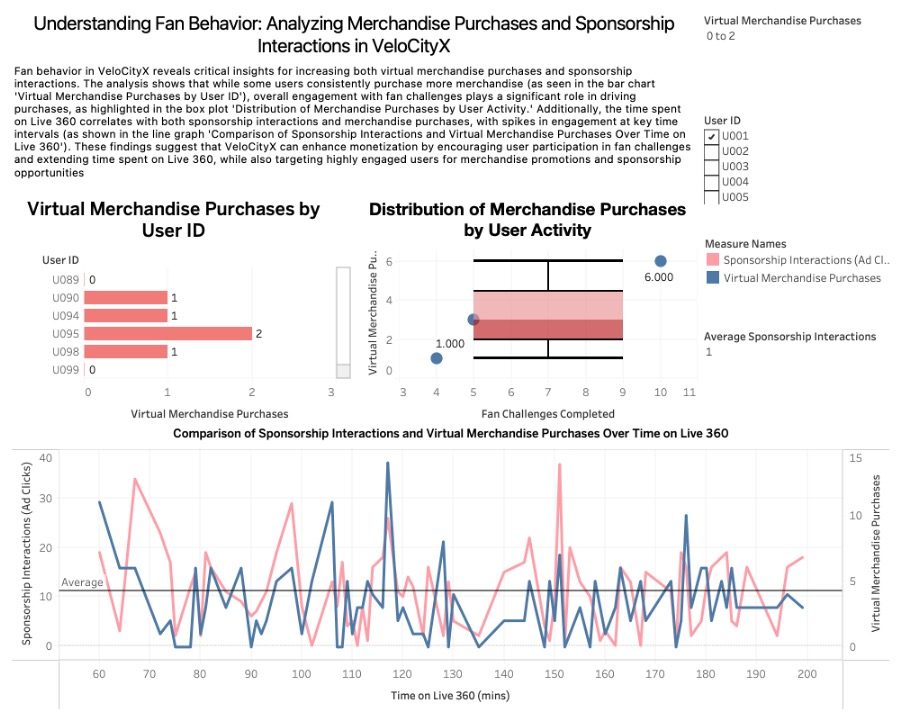

What the dashboard file says about the page in this screenshot:
{"tool":"tableau","page":{"name":"Dashboard 1","canvas":[1000,800],"ordinal":0},"visuals":[{"type":"title","box":[8,8,769,58]},{"type":"filter","title":"EDA1","param":"[federated.1t0z5pm10wgz3h17s3ghv1tn4f4g].[sum:Virtual Merchandise Purchases:qk]","box":[777,8,215,111]},{"type":"text","box":[8,66,769,143]},{"type":"filter","title":"EDA2","param":"[federated.1t0z5pm10wgz3h17s3ghv1tn4f4g].[none:User ID:nk]","box":[777,119,215,111]},{"type":"worksheet","title":"EDA1","mark":"Automatic","rows":["User ID"],"cols":["Virtual Merchandise Purchases"],"box":[8,209,384.5,254]},{"type":"worksheet","title":"EDA2","mark":"Circle","rows":["Virtual Merchandise Purchases"],"cols":["Fan Challenges Completed"],"box":[392.5,209,384.5,254]},{"type":"legend","title":"EDA3","param":"[federated.1t0z5pm10wgz3h17s3ghv1tn4f4g].[:Measure Names]","box":[777,255,215,104]},{"type":"parameter","param":"[Parameters].[Parameter 1]","box":[777,359,215,104]},{"type":"worksheet","title":"EDA3","mark":"Automatic","rows":["Sponsorship Interactions (Ad Clicks)","Virtual Merchandise Purchases"],"cols":["Time on Live 360 (mins)"],"box":[8,463,984,329]}]}

Visuals, with their boxes in screenshot pixels (x1, y1, x2, y2), scaled from the page's 1000x800 canvas onto the 901x721 screenshot:
title: select_region(7, 7, 700, 59)
"EDA1" filter: select_region(700, 7, 894, 107)
text: select_region(7, 59, 700, 188)
"EDA2" filter: select_region(700, 107, 894, 207)
"EDA1" worksheet: select_region(7, 188, 354, 417)
"EDA2" worksheet (Circle marks): select_region(354, 188, 700, 417)
"EDA3" legend: select_region(700, 230, 894, 324)
parameter: select_region(700, 324, 894, 417)
"EDA3" worksheet: select_region(7, 417, 894, 714)
